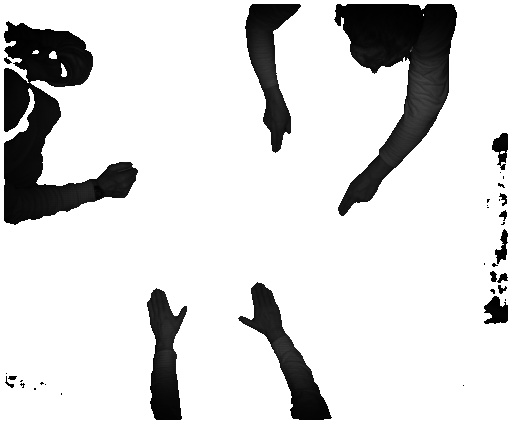fist: (103, 160, 143, 207)
hand: (232, 280, 284, 340), (144, 288, 191, 344), (336, 170, 383, 215), (256, 106, 295, 159)
